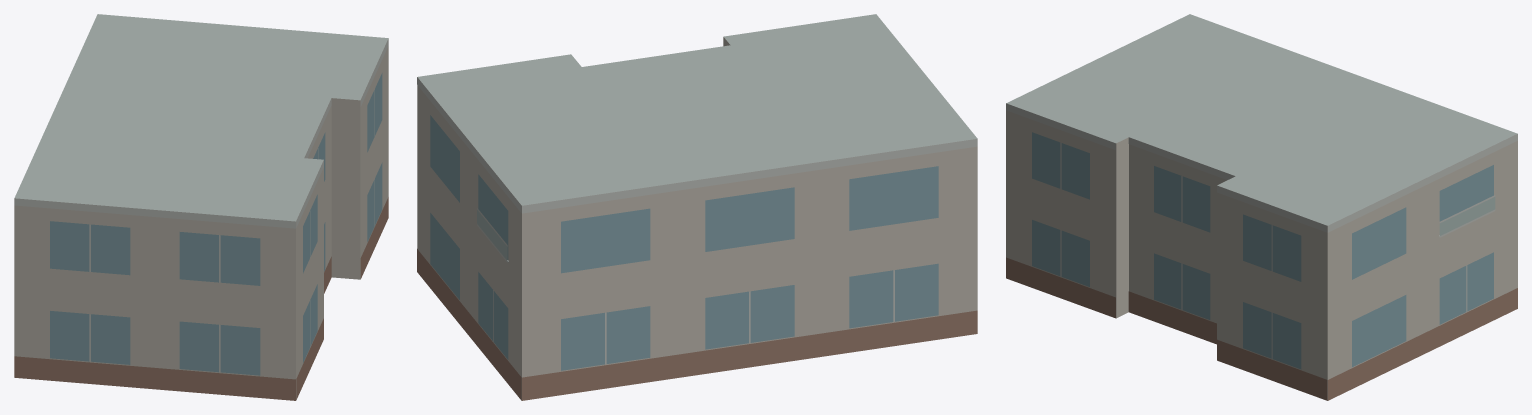
File: survey-upis-32722085.glb
3 views of the same model, side by side, from view 1: azimuth 30°, elevation 25°; view 2: azimuth 150°, elevation 25°; view 3: azimuth 270°, elevation 25° (orthographic). The views are drawn at different scales.
Visible parts, largest first — view 1: survey-upis-32722085.tmp; view 2: survey-upis-32722085.tmp; view 3: survey-upis-32722085.tmp.
Boxes of the visible parts, left/top/right/bottom form: survey-upis-32722085.tmp: left=14, top=14, right=388, bottom=400; survey-upis-32722085.tmp: left=417, top=14, right=977, bottom=400; survey-upis-32722085.tmp: left=1006, top=14, right=1517, bottom=400.
Size of the model in its own units: 15.84 by 6.1 by 16.17.
